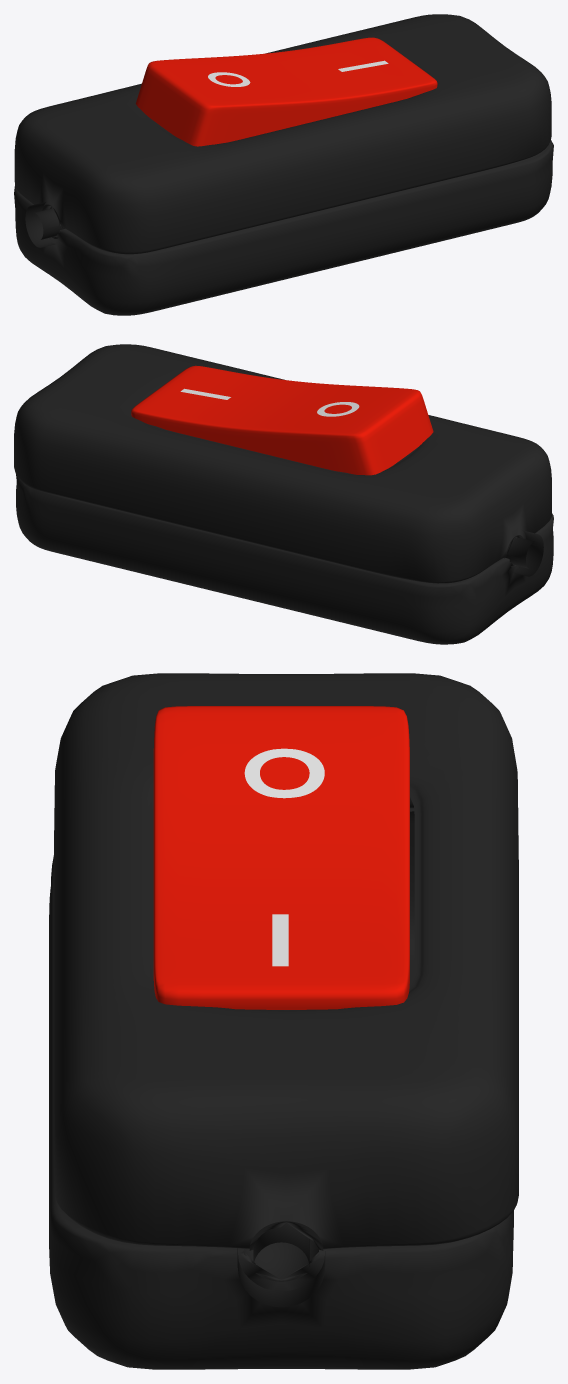
File: simple inline switch.fbx
3 renders of one model, top to bottom at view 1: azimuth 30°, elevation 25°; view 2: azimuth 150°, elevation 25°; view 3: azimuth 270°, elevation 25°, orthographic. The views are drawn at different scales.
Parts seen in each view (by area): view 1: Cube.005, Cube.002, Cube.007; view 2: Cube.005, Cube.002, Cube.007; view 3: Cube.005, Cube.007, Cube.002.
Boxes of the visible parts, <box> form: Cube.005: <box>14,14,551,254</box>; Cube.002: <box>14,140,553,315</box>; Cube.007: <box>135,37,437,146</box>; Cube.005: <box>14,344,551,583</box>; Cube.002: <box>16,474,553,644</box>; Cube.007: <box>131,365,433,475</box>; Cube.005: <box>54,673,518,1250</box>; Cube.007: <box>153,706,409,1009</box>; Cube.002: <box>49,797,513,1369</box>.
Bounding box in the file's own units: 166 × 56.34 × 67.99.
